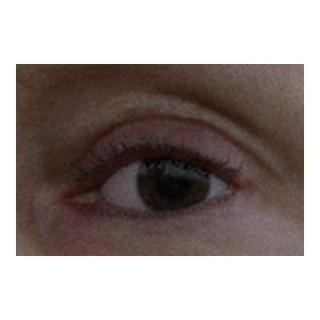pupil: (157, 165, 189, 197)
